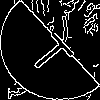T: (25, 25, 83, 78)
